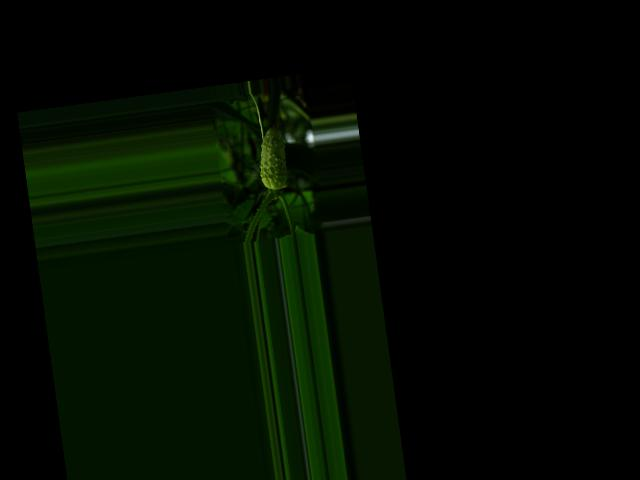cucumber: (253, 123, 289, 191)
